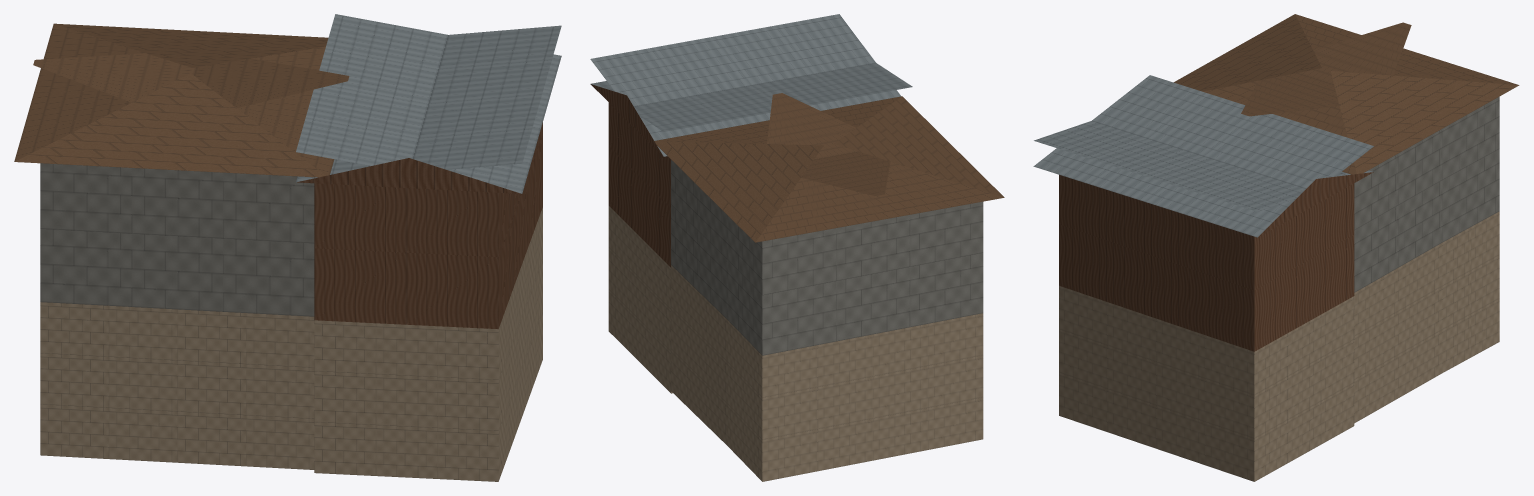
Rendered from bld_c14_42_465.gltf.
3 renders of one model, left to right at view 1: azimuth 30°, elevation 25°; view 2: azimuth 150°, elevation 25°; view 3: azimuth 270°, elevation 25°, orthographic. The views are drawn at different scales.
Visible parts, largest first — view 1: bld_c14_42_465; view 2: bld_c14_42_465; view 3: bld_c14_42_465.
Part boxes in pixels (x1=…): bld_c14_42_465: x1=14, y1=14, x2=561, y2=481; bld_c14_42_465: x1=590, y1=14, x2=1004, y2=481; bld_c14_42_465: x1=1033, y1=14, x2=1519, y2=481.
Size of the model in its own units: 18.16 by 11 by 17.08.
Materials: 6 (6 with a texture image).
